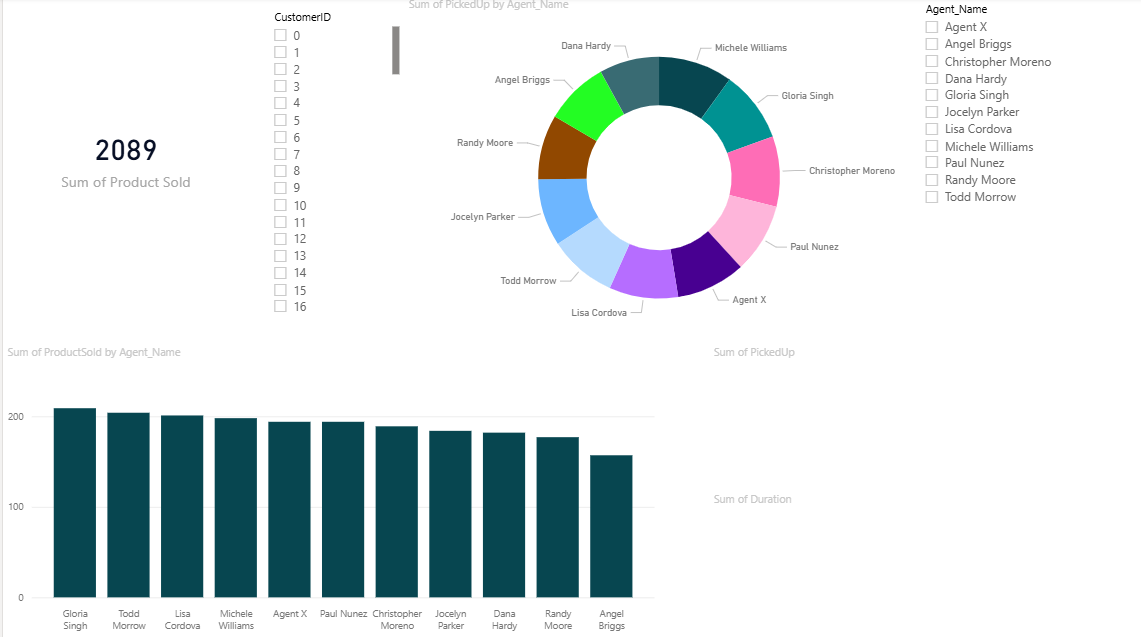

This screenshot's page, from the dashboard's own definition file:
{"tool":"powerbi","page":{"name":"Page 1","canvas":[1280,720],"ordinal":0},"visuals":[{"type":"donutChart","fields":{"Category":["Product_Sales.Agent_Name"],"Y":["Product_Sales.PickedUp"]},"box":[449.3,0,571.1,389.2],"z":0},{"type":"card","fields":{"Values":["Product_Sales.ProductSold"]},"box":[0,0,275.8,359.8],"z":1000},{"type":"slicer","fields":{"Values":["Product_Sales.Agent_Name"]},"box":[1020.5,0,259,389.2],"z":2000},{"type":"slicer","fields":{"Values":["Product_Sales.CustomerID"]},"box":[291.2,9.8,158.2,350],"z":3000},{"type":"kpi","fields":{"Indicator":["Product_Sales.PickedUp"]},"box":[790.9,389.2,488.5,165.2],"z":4000},{"type":"clusteredColumnChart","fields":{"Category":["Product_Sales.Agent_Name"],"Y":["Product_Sales.ProductSold"]},"box":[0,389.2,734.9,330.4],"z":5000},{"type":"kpi","fields":{"Indicator":["Product_Sales.Duration"]},"box":[790.9,554.3,488.5,165.2],"z":6000}]}

Visuals, with their boxes in screenshot pixels (x1, y1, x2, y2), scaled from the page's 1280x720 canvas onto the 1141x637 screenshot:
donutChart - Product_Sales.Agent_Name x Product_Sales.PickedUp: {"x1": 401, "y1": 0, "x2": 910, "y2": 344}
card - Product_Sales.ProductSold: {"x1": 0, "y1": 0, "x2": 246, "y2": 318}
slicer - Product_Sales.Agent_Name: {"x1": 910, "y1": 0, "x2": 1140, "y2": 344}
slicer - Product_Sales.CustomerID: {"x1": 260, "y1": 9, "x2": 401, "y2": 318}
kpi - Product_Sales.PickedUp: {"x1": 705, "y1": 344, "x2": 1140, "y2": 490}
clusteredColumnChart - Product_Sales.Agent_Name x Product_Sales.ProductSold: {"x1": 0, "y1": 344, "x2": 655, "y2": 636}
kpi - Product_Sales.Duration: {"x1": 705, "y1": 490, "x2": 1140, "y2": 636}
